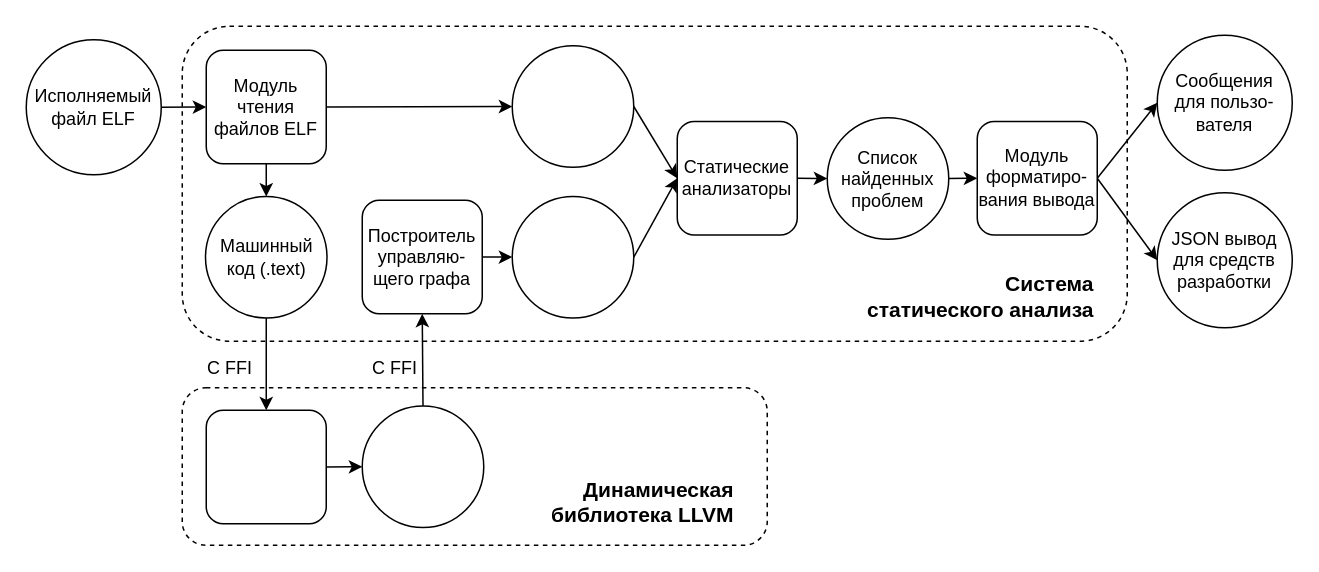
Some shapes in this 1319 by 572 pixel diagram are drawn without their labels. Each missing label, with the box of its shape:
Диз-ассемблер: (205, 409, 326, 524)
Метаданные: (511, 44, 634, 167)
Текстовое предст-ие инструкций: (361, 405, 484, 528)
Управляю-щий граф (CFG): (511, 195, 634, 318)
